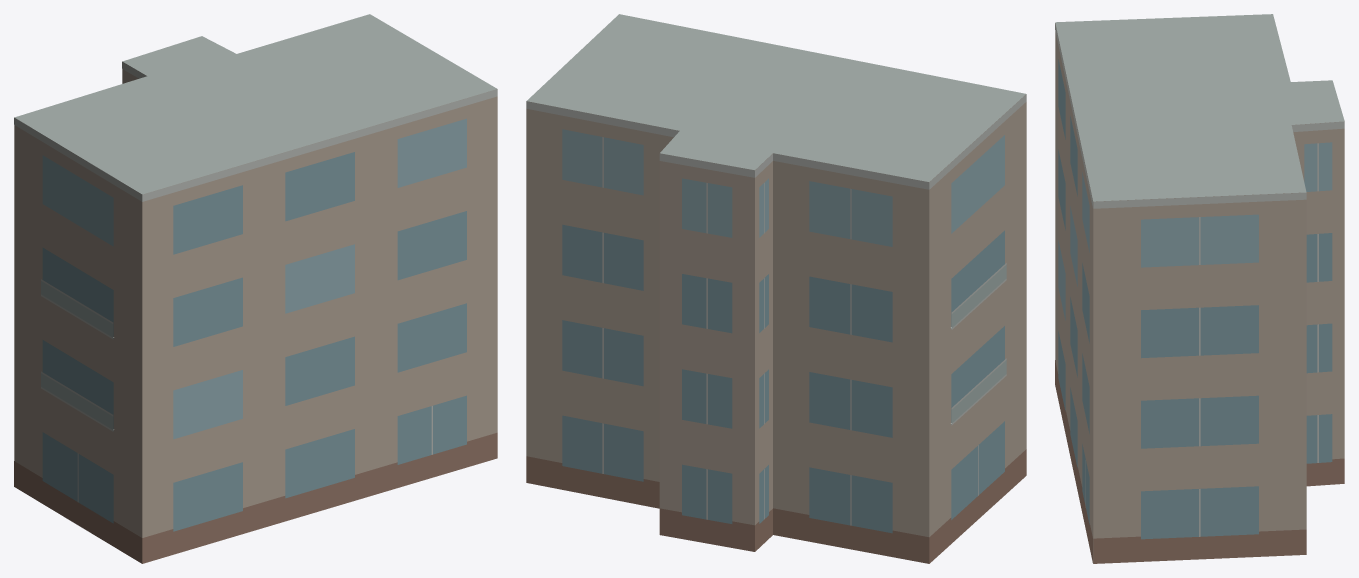
File: survey-upis-32608263.glb
3 views of the same model, side by side, from view 1: azimuth 30°, elevation 25°; view 2: azimuth 150°, elevation 25°; view 3: azimuth 270°, elevation 25° (orthographic). The views are drawn at different scales.
Parts seen in each view (by area): view 1: survey-upis-32608263.tmp; view 2: survey-upis-32608263.tmp; view 3: survey-upis-32608263.tmp.
Part boxes in pixels (x1,y1,x2,y2): survey-upis-32608263.tmp: (14, 14, 497, 563); survey-upis-32608263.tmp: (526, 14, 1026, 563); survey-upis-32608263.tmp: (1055, 14, 1344, 563).
Size of the model in its own units: 13.55 by 12.2 by 8.85.
